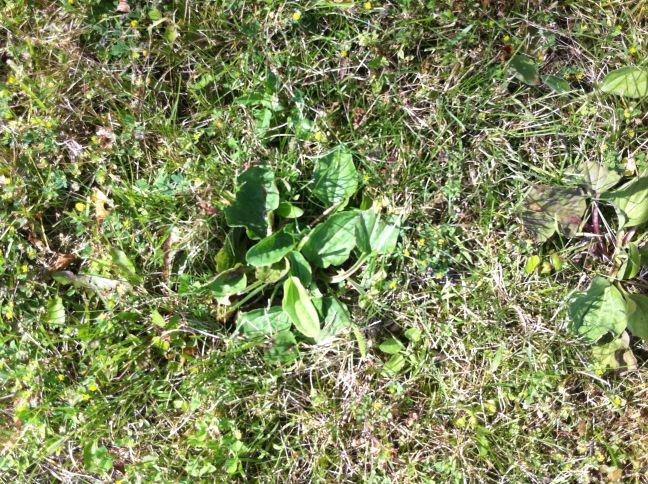weed1: (200, 148, 409, 363), (503, 129, 648, 359)
